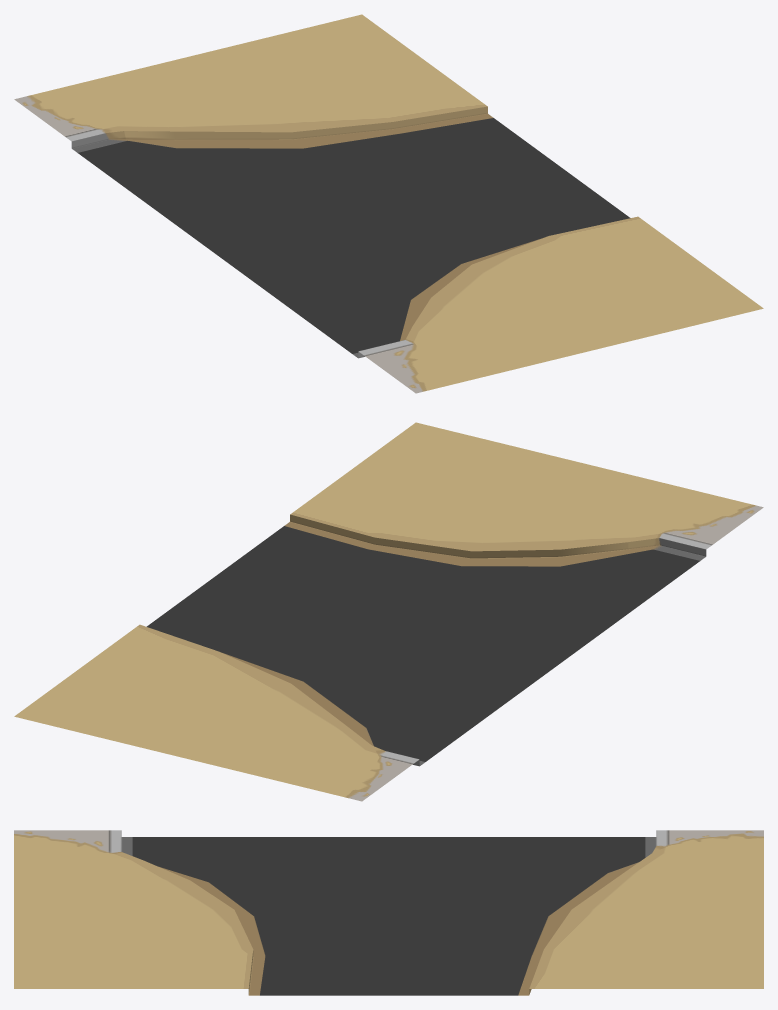
The model's file is SM_Env_Road_Asphalt_Town_Transition_01.gltf.
The picture shows the model from 3 angles, top to bottom: view 1: azimuth 30°, elevation 25°; view 2: azimuth 150°, elevation 25°; view 3: azimuth 270°, elevation 25°; orthographic projection. The views are drawn at different scales.
Visible parts, largest first — view 1: SM_Env_Road_Asphalt_Town_Transition_01; view 2: SM_Env_Road_Asphalt_Town_Transition_01; view 3: SM_Env_Road_Asphalt_Town_Transition_01.
Part boxes in pixels (x1,y1,x2,y2): SM_Env_Road_Asphalt_Town_Transition_01: (14,14,763,393); SM_Env_Road_Asphalt_Town_Transition_01: (14,422,763,801); SM_Env_Road_Asphalt_Town_Transition_01: (14,830,763,995).
Bounding box in the file's own units: 10 × 0.1948 × 20.
1 material, 1 textured.
